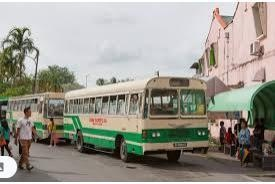bus: (66, 74, 211, 163), (4, 92, 65, 144)
